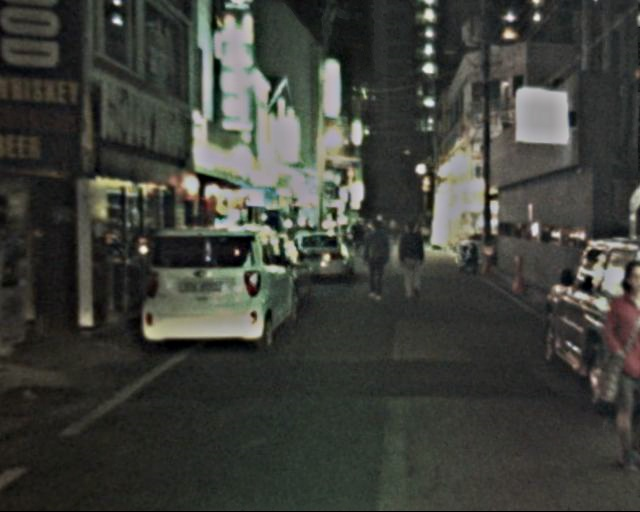person: (586, 263, 640, 468), (394, 221, 430, 301), (361, 222, 392, 299)
